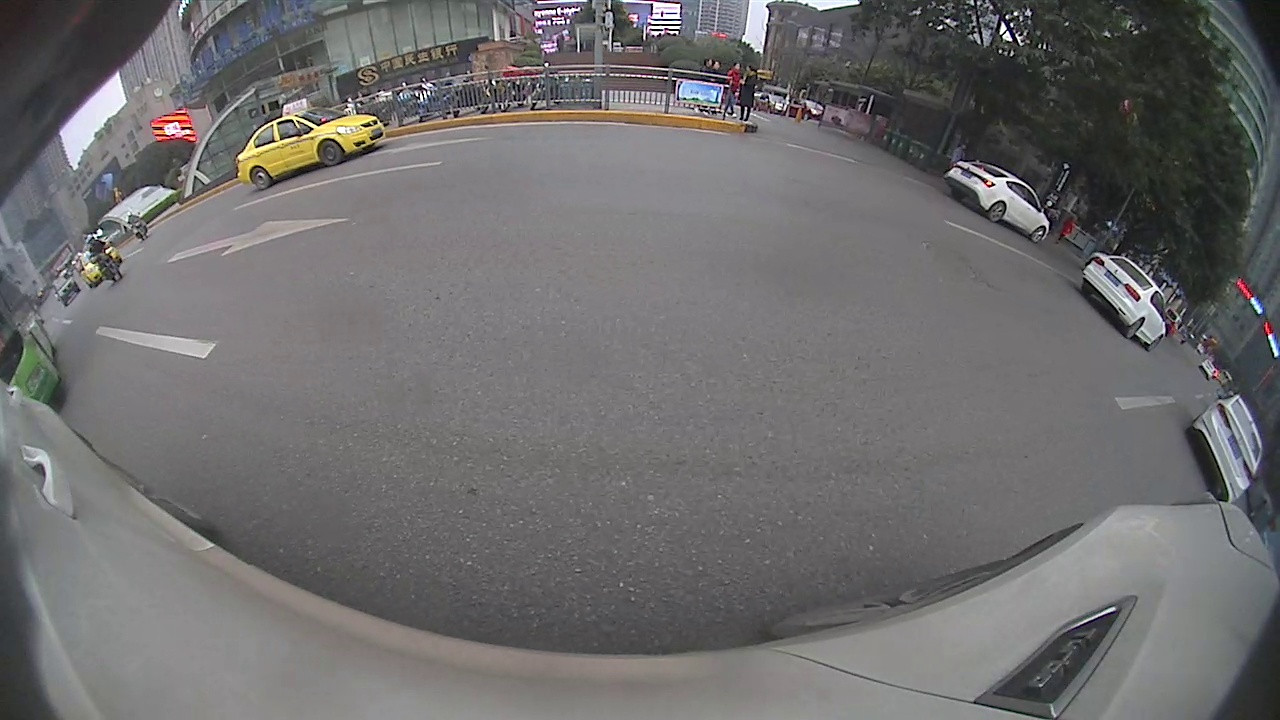car: (232, 96, 388, 190), (941, 159, 1054, 245), (1080, 250, 1170, 354), (1186, 393, 1267, 507)
front: (319, 141, 343, 167), (1027, 226, 1046, 244)
person: (744, 64, 758, 124), (728, 61, 741, 119)
rear: (248, 166, 274, 191), (987, 202, 1008, 226), (1124, 319, 1146, 340)
rider: (81, 234, 128, 285)
